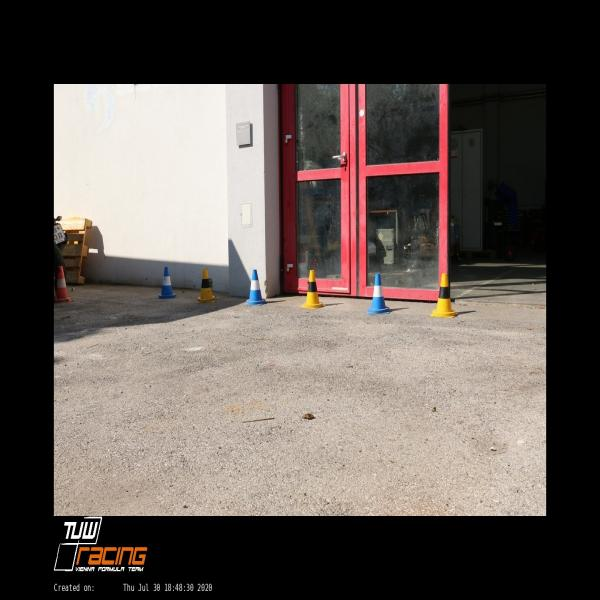blue_cone: (367, 272, 390, 314), (245, 269, 265, 305), (158, 266, 176, 299)
orange_cone: (54, 265, 74, 304)
yellow_cone: (430, 273, 458, 318), (302, 269, 323, 308), (196, 268, 216, 302)
